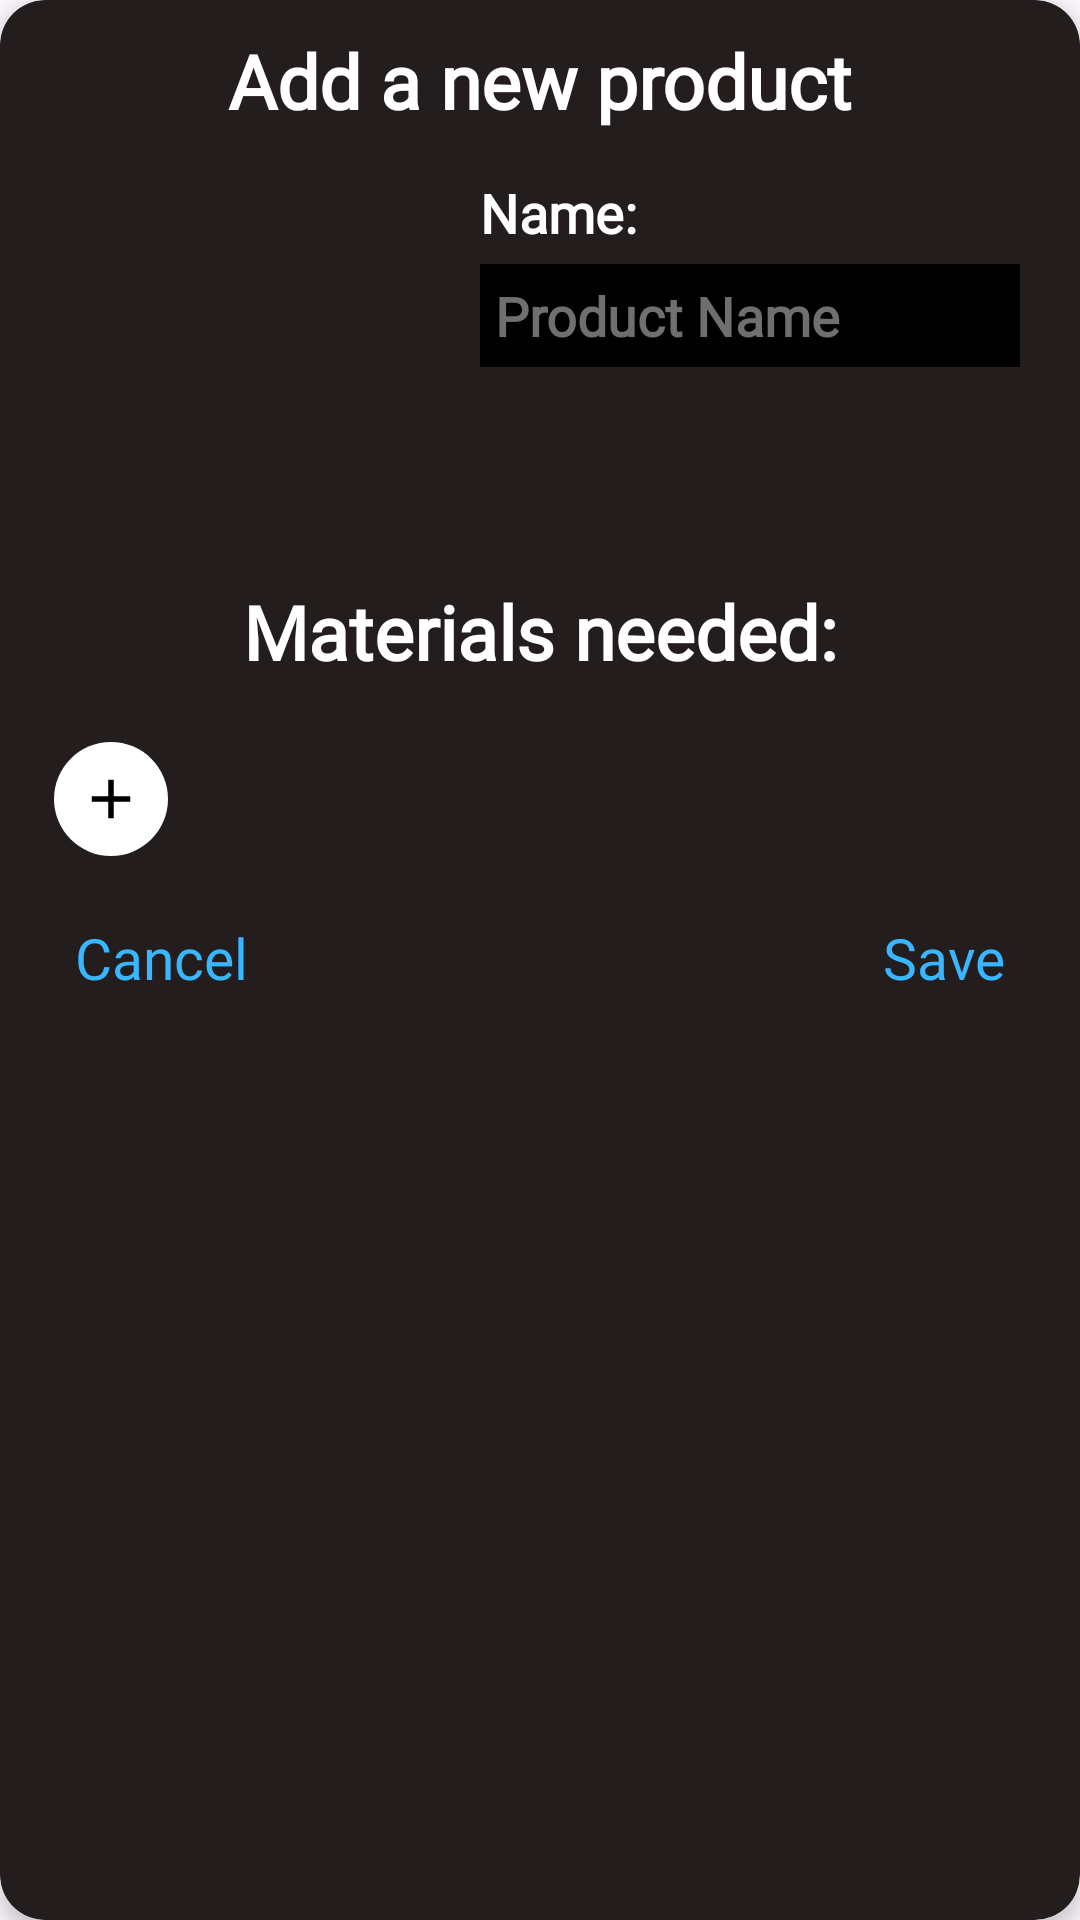

Icon bounding boxes for this 1080px x 1920px phone screenshot, format (x1, y1, x2, y2):
add: (54, 742, 168, 856)
